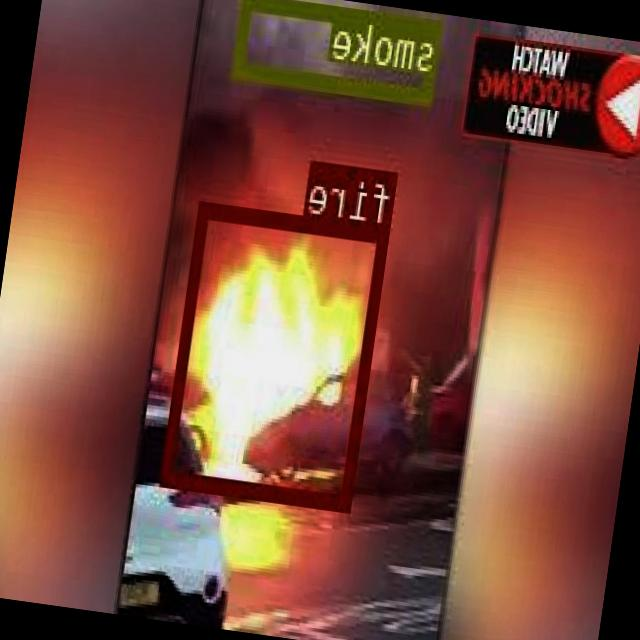fire: (163, 200, 393, 508)
smoke: (233, 0, 444, 103)
